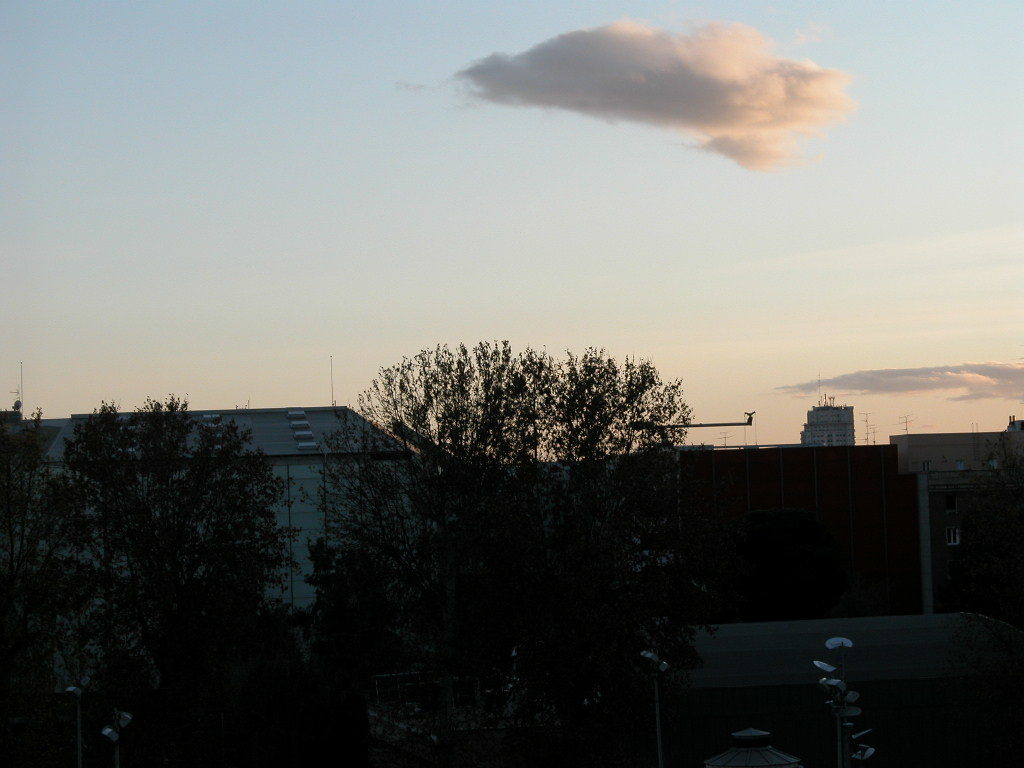Tree: (56, 388, 277, 767), (348, 328, 702, 504), (300, 432, 448, 767), (0, 400, 78, 767)
